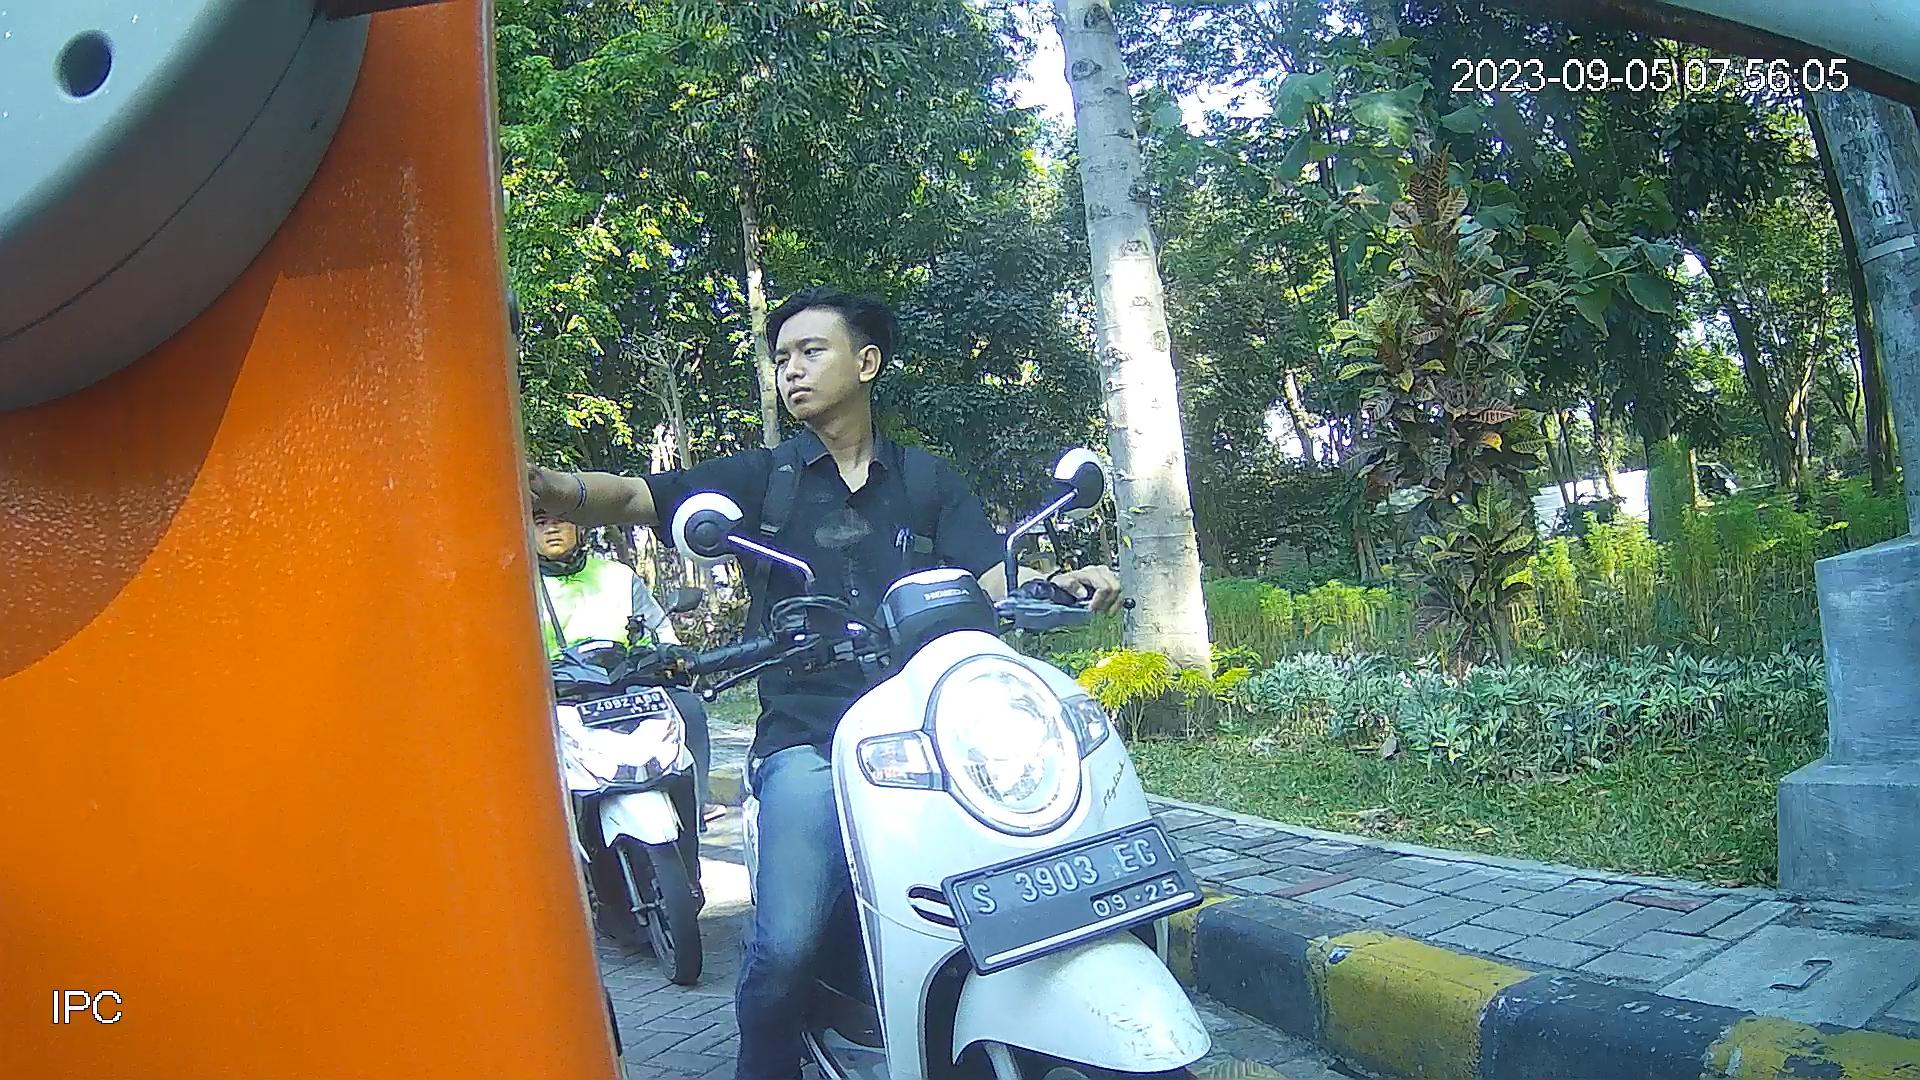plat: (934, 814, 1208, 978)
